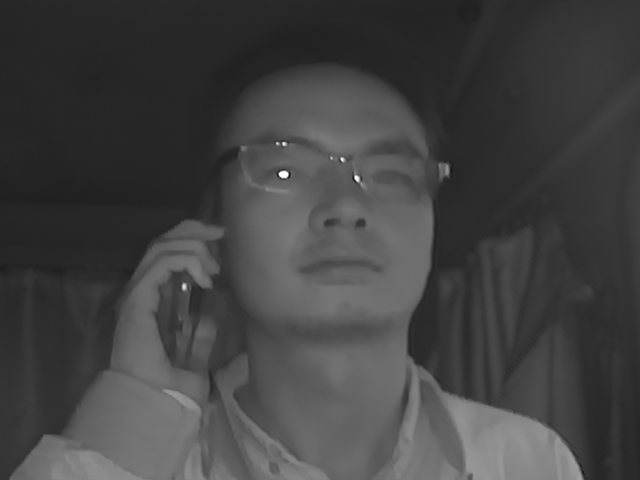hand: (108, 216, 239, 397)
